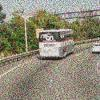buses: (36, 29, 74, 60)
